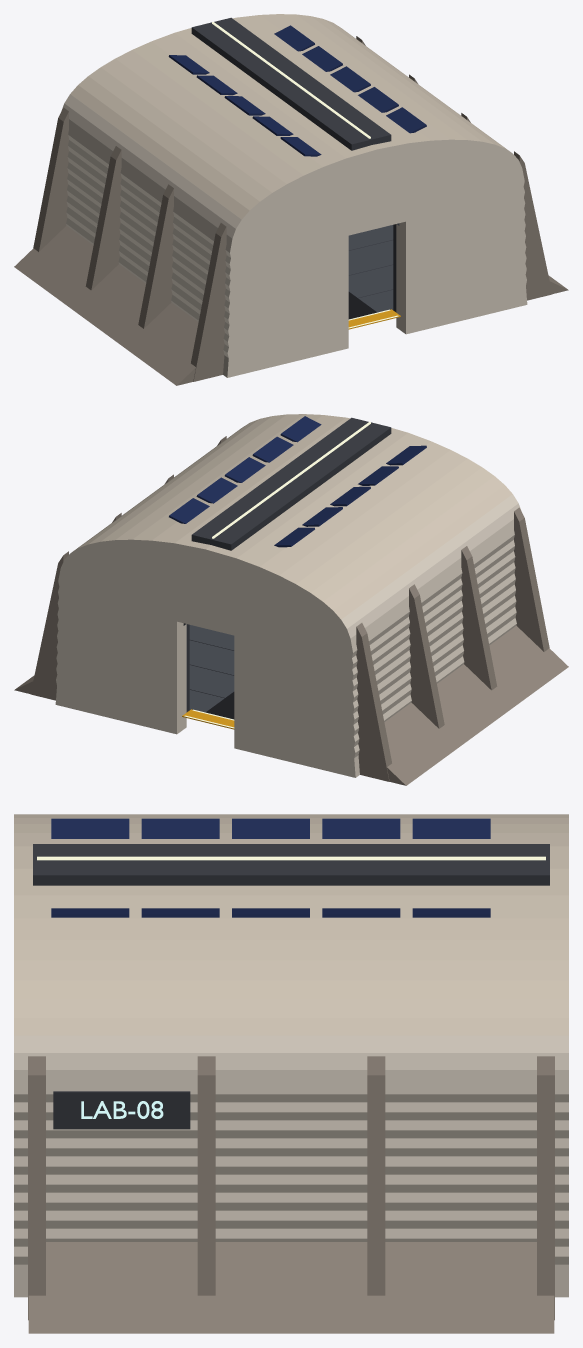
Rendered from Lab.fbx.
3 views of the same model, one above another, from view 1: azimuth 30°, elevation 25°; view 2: azimuth 150°, elevation 25°; view 3: azimuth 270°, elevation 25° (orthographic). The views are drawn at different scales.
Visible parts, largest first — view 1: Lab solid, Lab trim; view 2: Lab solid, Lab trim; view 3: Lab solid, Lab trim.
Boxes of the visible parts, left/top/right/bottom form: Lab solid: left=14, top=14, right=568, bottom=385; Lab trim: left=168, top=17, right=426, bottom=329; Lab solid: left=14, top=414, right=568, bottom=785; Lab trim: left=169, top=416, right=426, bottom=729; Lab solid: left=14, top=814, right=568, bottom=1333; Lab trim: left=33, top=818, right=549, bottom=1129.
Size of the model in its own units: 8.92 by 4.32 by 6.76.
